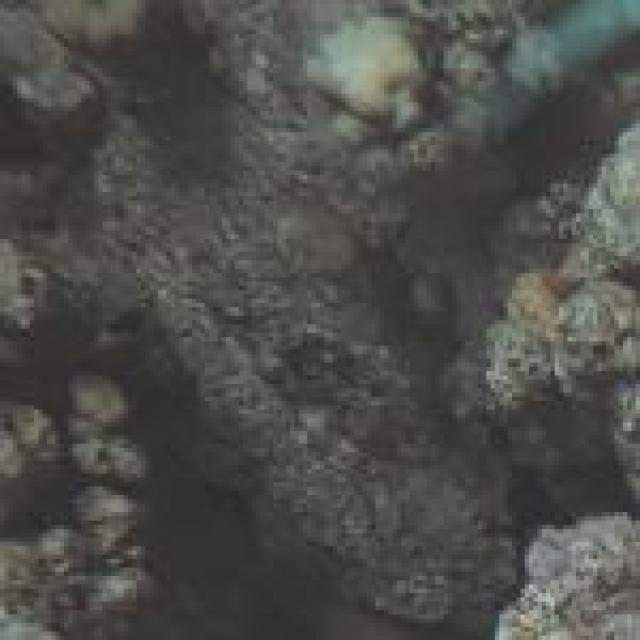Dead Coral: (139, 143, 519, 615)
